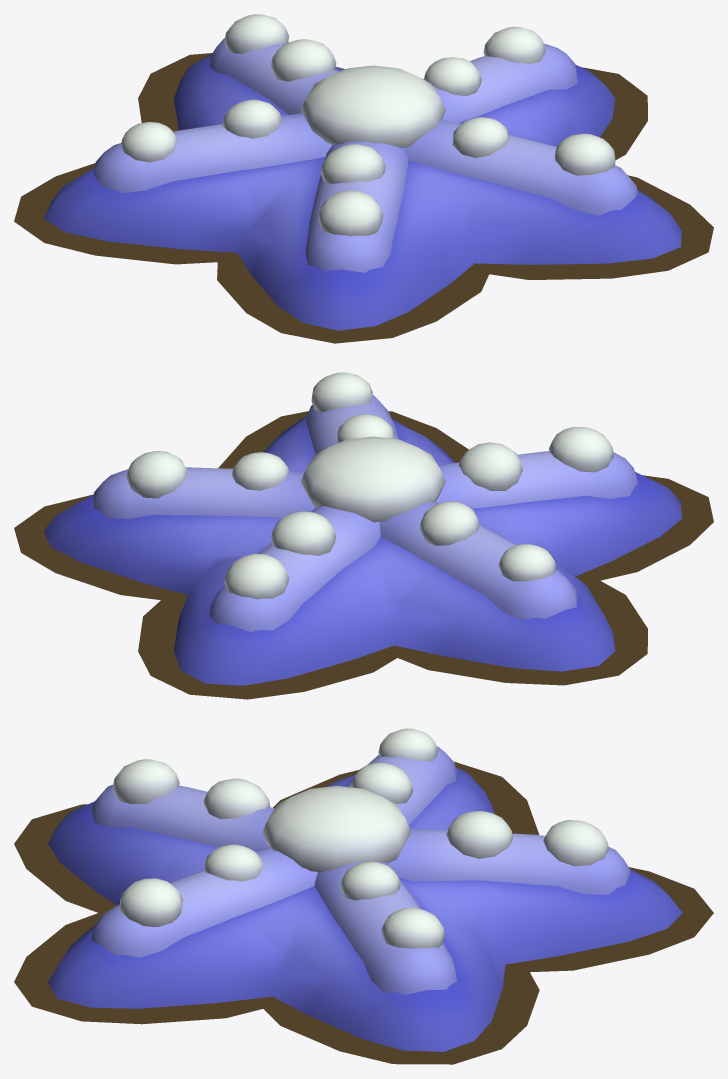
Rendered from Mu_Starfish.fbx.
3 views of the same model, one above another, from view 1: azimuth 30°, elevation 25°; view 2: azimuth 150°, elevation 25°; view 3: azimuth 270°, elevation 25° (orthographic). The views are drawn at different scales.
Parts seen in each view (by area): view 1: Mu_Starfish_a, Mu_Starfish_shadow; view 2: Mu_Starfish_a, Mu_Starfish_shadow; view 3: Mu_Starfish_a, Mu_Starfish_shadow.
Boxes of the visible parts, x1,y1,x2,y2 form: Mu_Starfish_a: (44,14,681,330); Mu_Starfish_shadow: (14,53,713,343); Mu_Starfish_a: (44,372,681,685); Mu_Starfish_shadow: (14,411,713,699); Mu_Starfish_a: (48,728,682,1051); Mu_Starfish_shadow: (14,761,713,1064).
Bounding box in the file's own units: 100 × 17.72 × 97.95.
2 materials, 1 textured.
